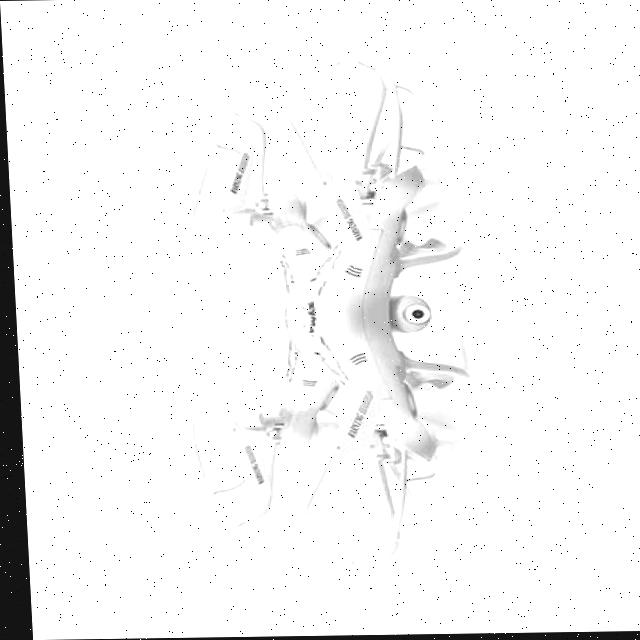drone: (140, 41, 511, 580)
